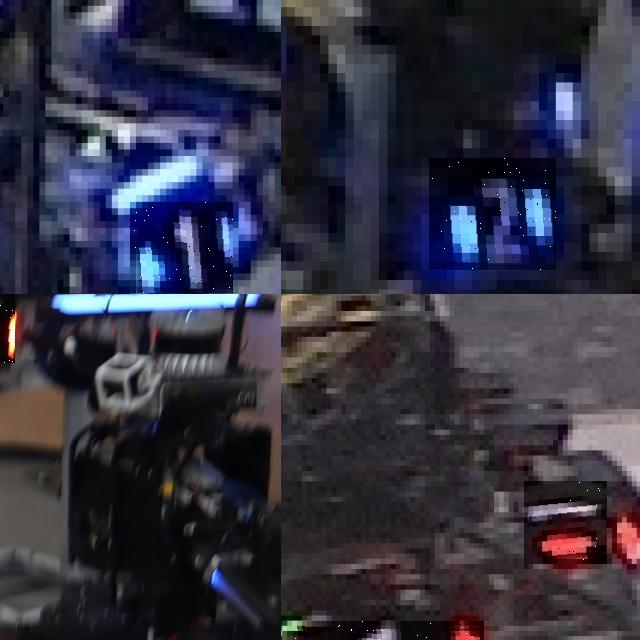B1: (130, 202, 233, 293)
B2: (429, 158, 556, 270)
R1: (524, 481, 607, 564), (287, 620, 484, 640)
